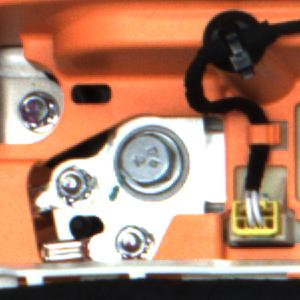nut_b: (113, 124, 192, 206)
screw_s: (49, 168, 95, 203), (109, 225, 151, 260), (22, 90, 55, 126)
